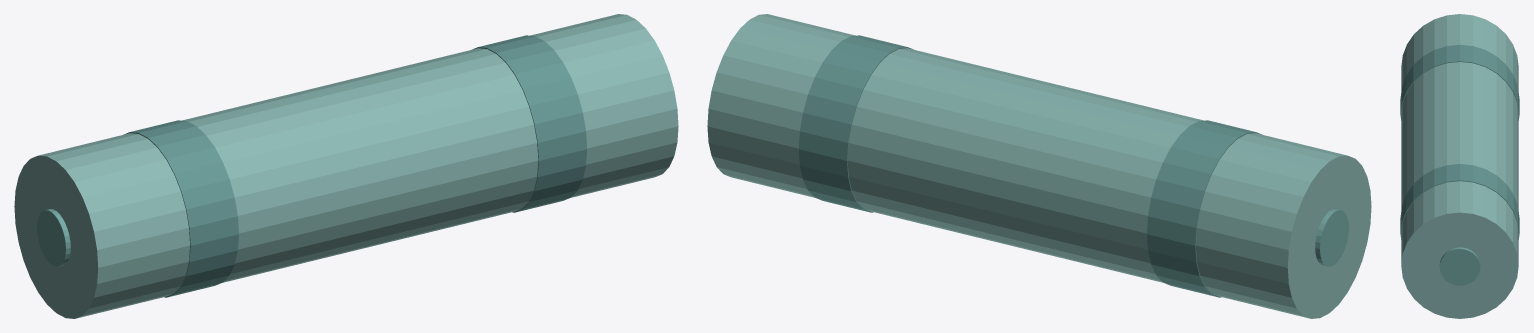
The model's file is yoga-mat.glb.
3 views of the same model, side by side, from view 1: azimuth 30°, elevation 25°; view 2: azimuth 150°, elevation 25°; view 3: azimuth 270°, elevation 25° (orthographic). The views are drawn at different scales.
Visible parts, largest first — view 1: geometry_0, geometry_1, geometry_2, geometry_3; view 2: geometry_0, geometry_1, geometry_2, geometry_3; view 3: geometry_0, geometry_2, geometry_1, geometry_3.
Boxes of the visible parts, bbox=[...] form: geometry_0: bbox=[14, 14, 678, 318]; geometry_1: bbox=[472, 35, 587, 212]; geometry_2: bbox=[124, 120, 238, 297]; geometry_3: bbox=[37, 209, 70, 266]; geometry_0: bbox=[707, 14, 1371, 318]; geometry_1: bbox=[798, 35, 913, 212]; geometry_2: bbox=[1147, 120, 1261, 297]; geometry_3: bbox=[1315, 209, 1348, 266]; geometry_0: bbox=[1401, 14, 1518, 318]; geometry_2: bbox=[1400, 44, 1519, 120]; geometry_1: bbox=[1400, 164, 1519, 239]; geometry_3: bbox=[1439, 247, 1480, 285].
Bounding box in the file's own units: 0.61 × 0.152 × 0.152.
